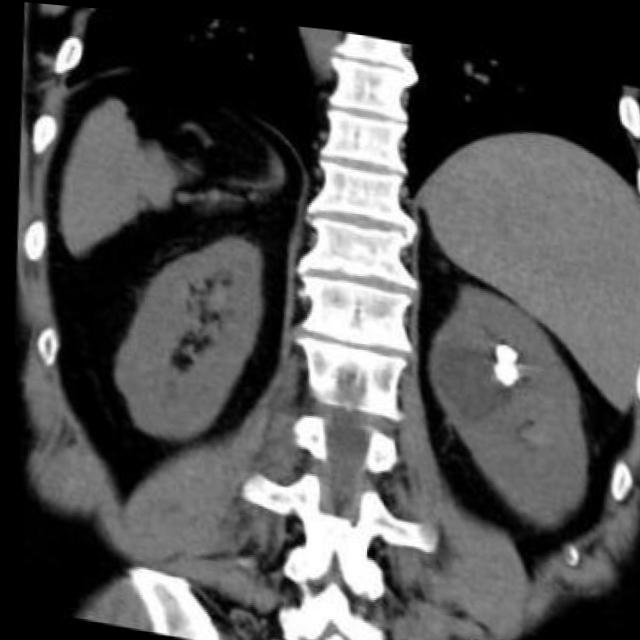Tas_Var: (484, 350, 516, 381), (484, 331, 516, 356)
